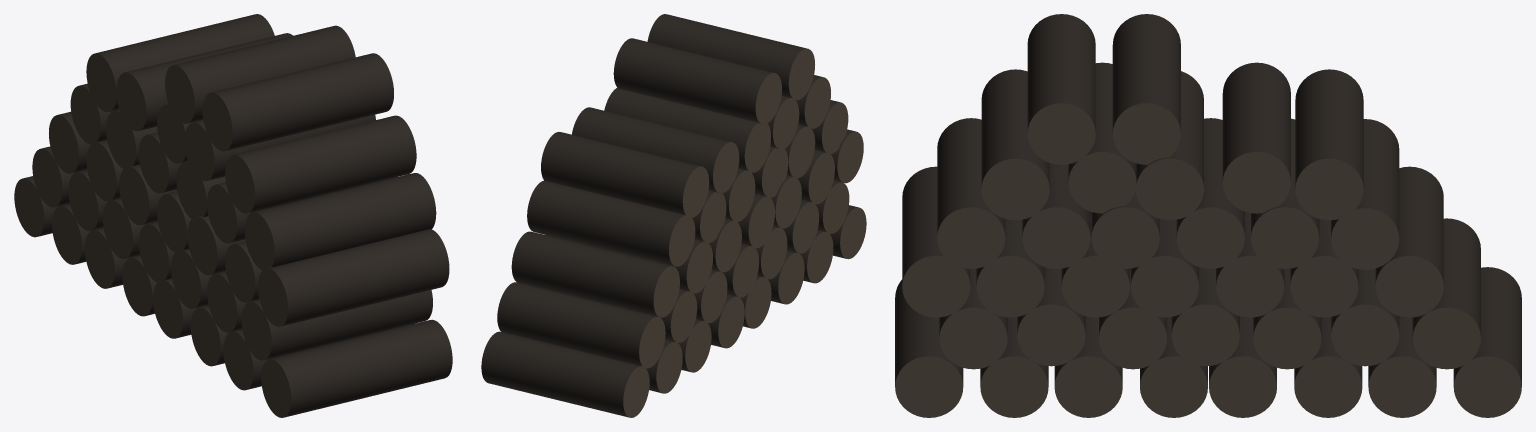
File: monton_leña.fbx
3 views of the same model, side by side, from view 1: azimuth 30°, elevation 25°; view 2: azimuth 150°, elevation 25°; view 3: azimuth 270°, elevation 25° (orthographic). The views are drawn at different scales.
Visible parts, largest first — view 1: tronco, bases; view 2: tronco, bases; view 3: bases, tronco.
Part boxes in pixels (x1,y1,x2,y2): tronco: (23, 14, 452, 417); bases: (14, 53, 291, 417); tronco: (481, 14, 858, 417); bases: (623, 48, 866, 417); bases: (895, 103, 1521, 417); tronco: (895, 14, 1521, 385).
Bounding box in the file's own units: 81.86 × 133 × 240.
Materials: 2 (2 with a texture image).
